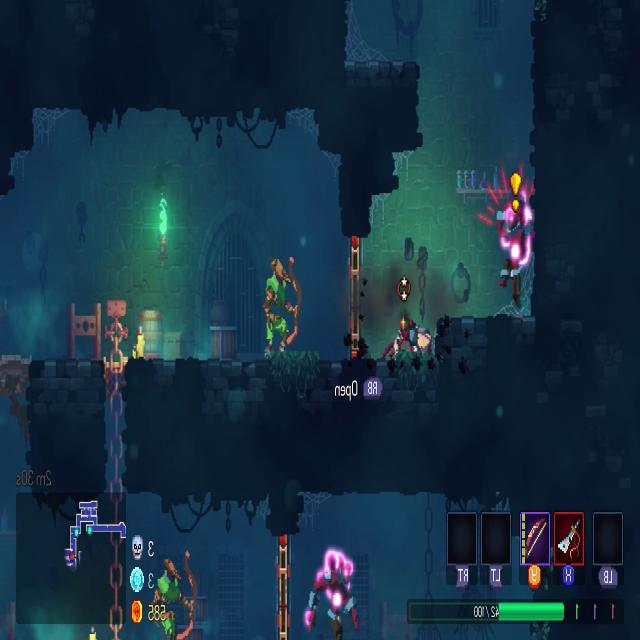agents: (390, 314, 419, 356)
door_regular: (348, 235, 362, 356), (275, 528, 290, 640)
enemy_archer: (261, 255, 299, 354), (155, 554, 195, 640)
enemy_purple_big: (492, 198, 534, 321), (304, 550, 358, 636)
